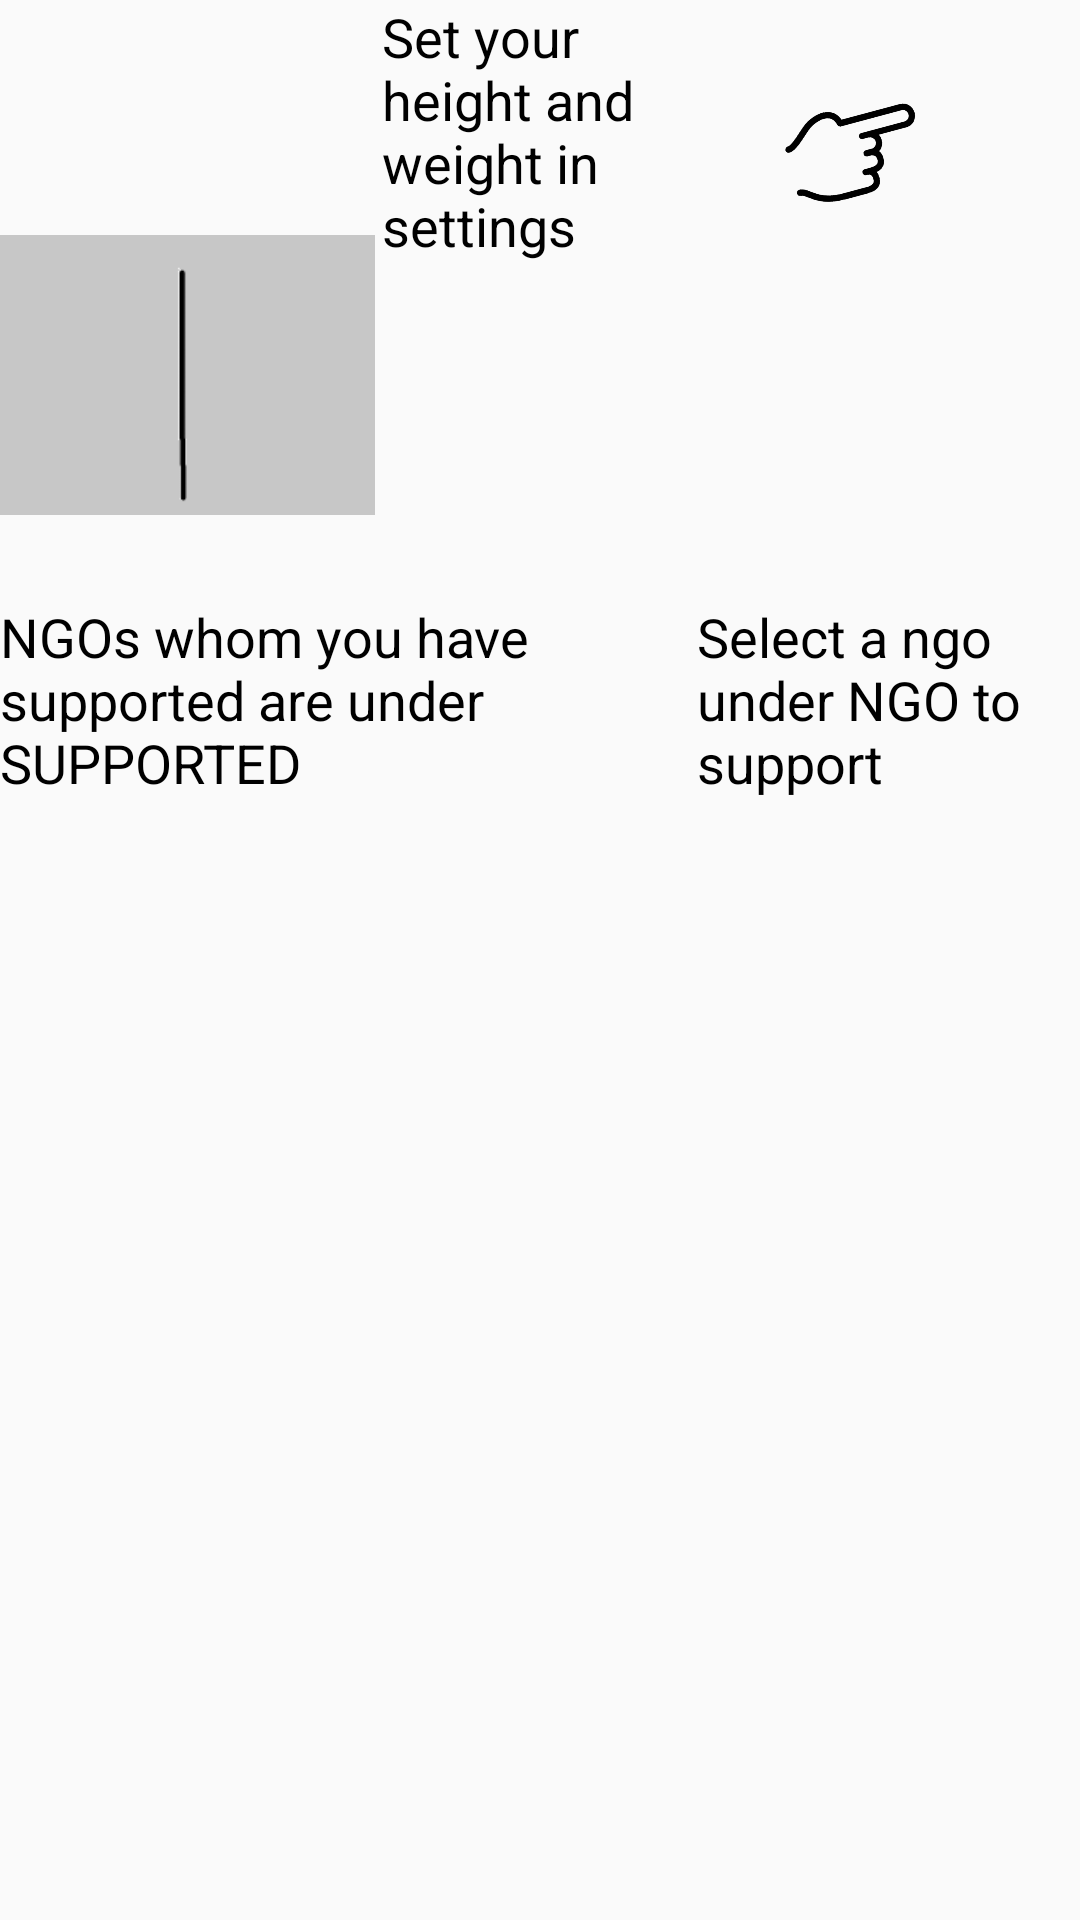

Named icons in this screenshot (1080px x 1920px) and their centers, [x,y]:
pointera: [850,152]
